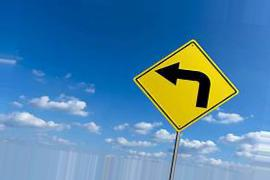left: (132, 42, 240, 133)
